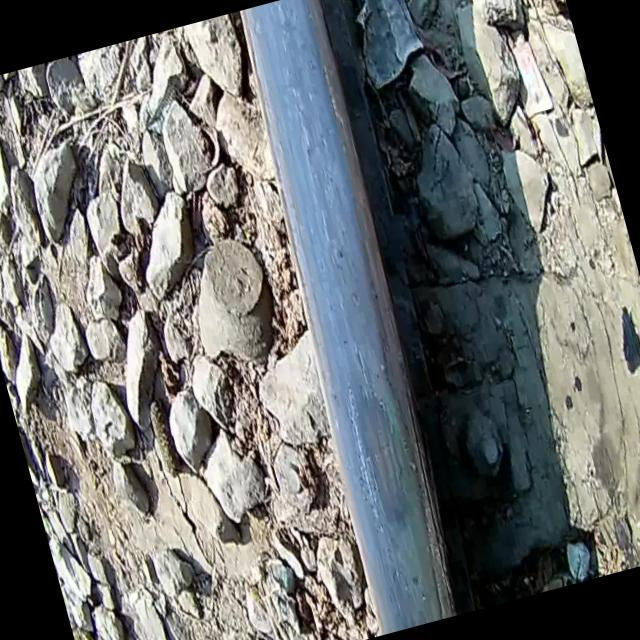Squats: (194, 0, 505, 640)
